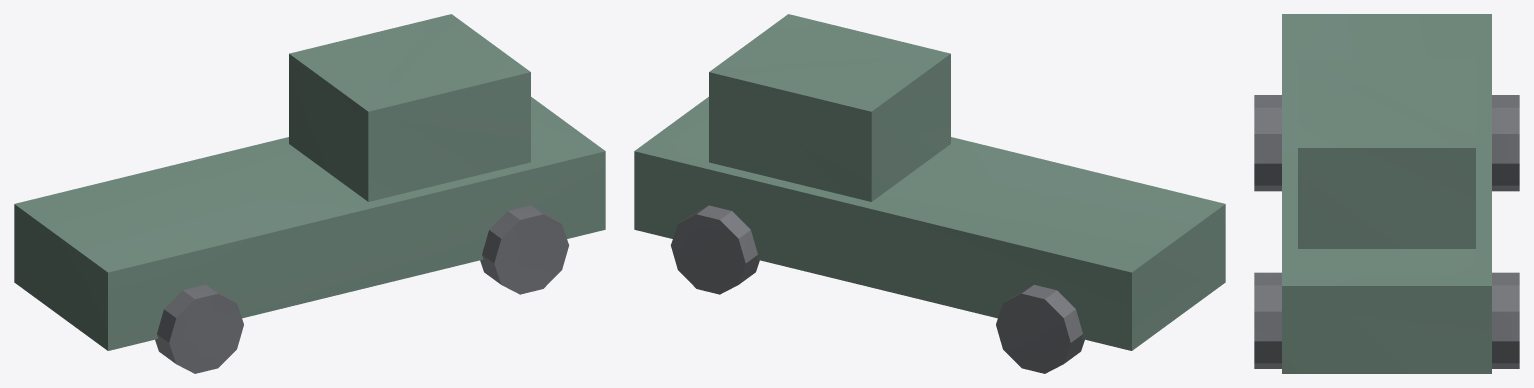
File: train-04.glb
The picture shows the model from 3 angles, left to right: view 1: azimuth 30°, elevation 25°; view 2: azimuth 150°, elevation 25°; view 3: azimuth 270°, elevation 25°; orthographic projection. The views are drawn at different scales.
Parts seen in each view (by area): view 1: world; view 2: world; view 3: world.
Part boxes in pixels (x1,y1,x2,y2): world: (14,14,605,373); world: (634,14,1225,373); world: (1254,14,1519,373).
Bounding box in the file's own units: 1.99 × 0.7677 × 0.82.
